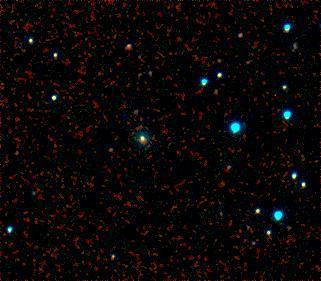star: (2, 138, 32, 168)
